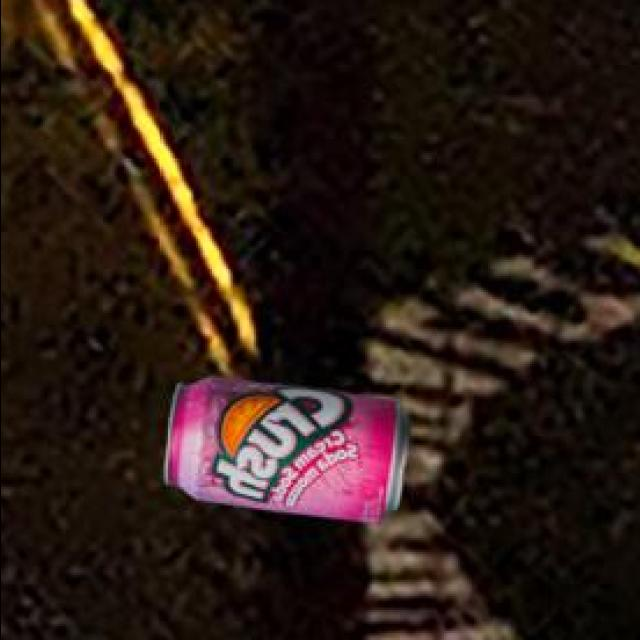logam: (168, 381, 412, 528)
